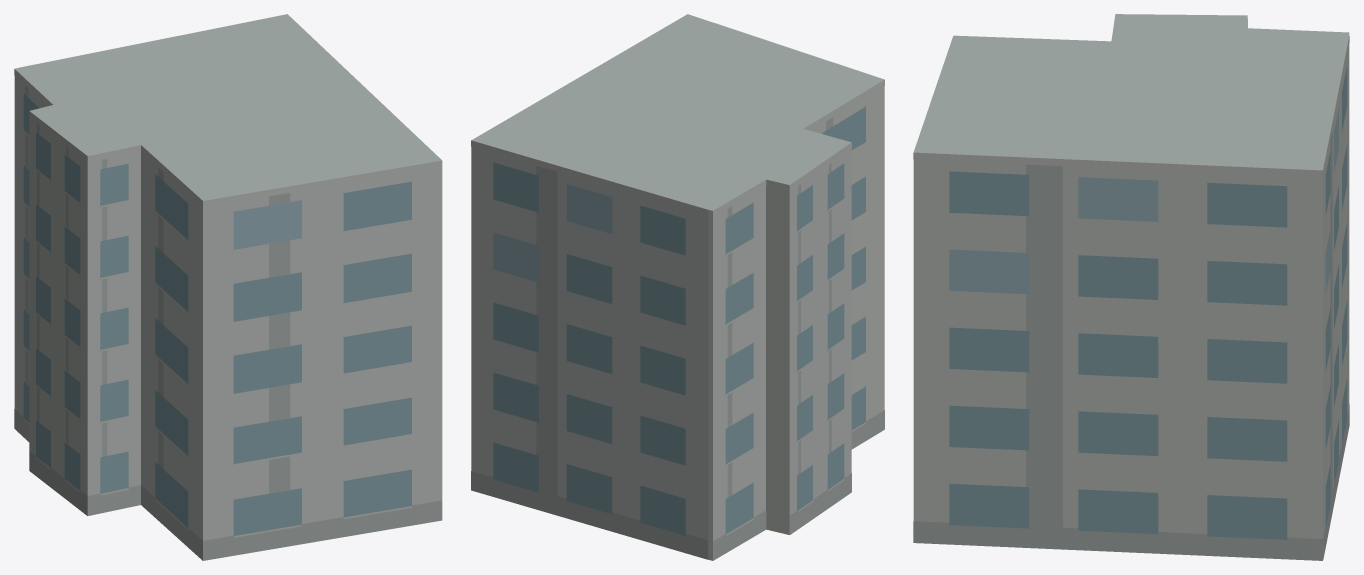
Rendered from survey-upis-32806560.glb.
3 renders of one model, left to right at view 1: azimuth 30°, elevation 25°; view 2: azimuth 150°, elevation 25°; view 3: azimuth 270°, elevation 25°, orthographic. The views are drawn at different scales.
Parts seen in each view (by area): view 1: survey-upis-32806560.tmp; view 2: survey-upis-32806560.tmp; view 3: survey-upis-32806560.tmp.
Part boxes in pixels (x1,y1,x2,y2): survey-upis-32806560.tmp: (14, 14, 442, 560); survey-upis-32806560.tmp: (471, 14, 884, 560); survey-upis-32806560.tmp: (913, 14, 1349, 560).
Size of the model in its own units: 11.44 by 13.3 by 13.47.
